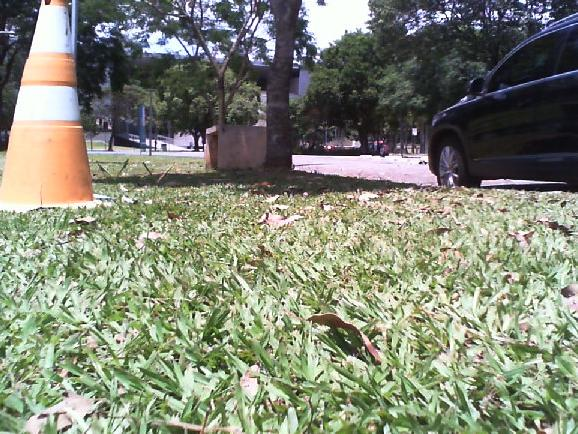0 cone: (0, 0, 95, 211)
